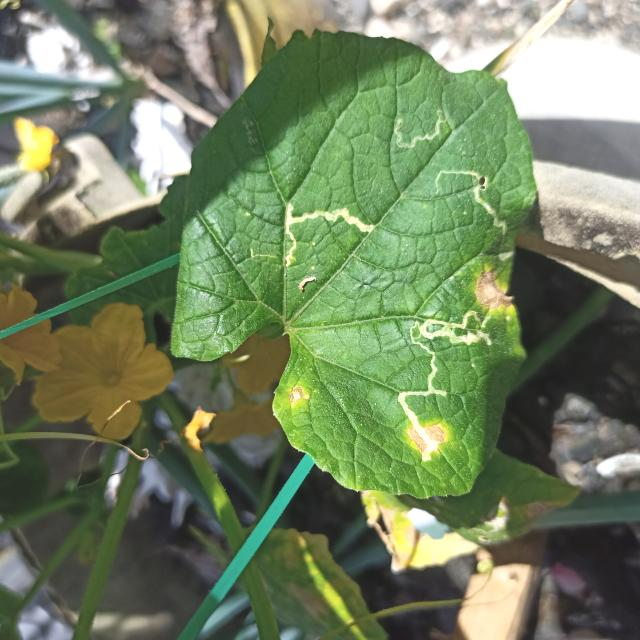disease_cucumber: (470, 267, 516, 313), (406, 420, 446, 456), (285, 381, 313, 406)
